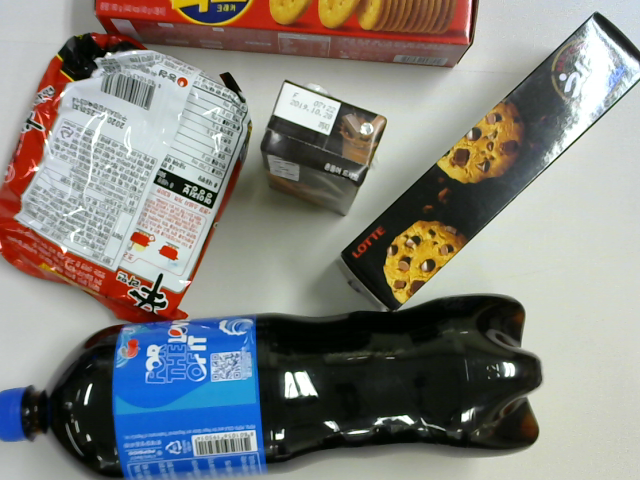Chicchok_Original_2400: (341, 9, 640, 296)
Hush_Choco_Drink: (260, 90, 371, 204)
Pepsi_Cola_1.5L: (18, 293, 565, 480)
Ritz_Cracker: (92, 1, 501, 73)
Sinramen: (7, 37, 246, 319)
